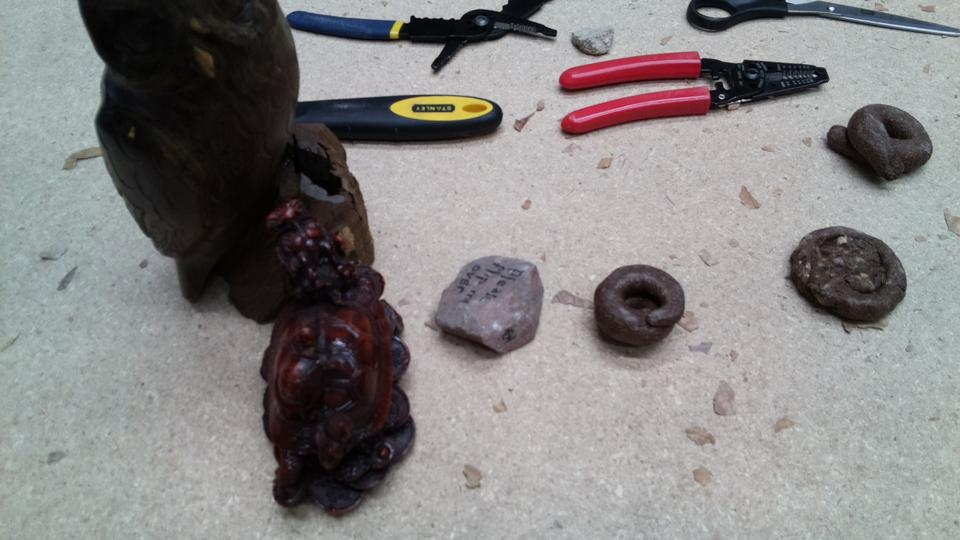poop: (787, 221, 913, 329), (824, 101, 937, 187), (589, 259, 690, 352)
